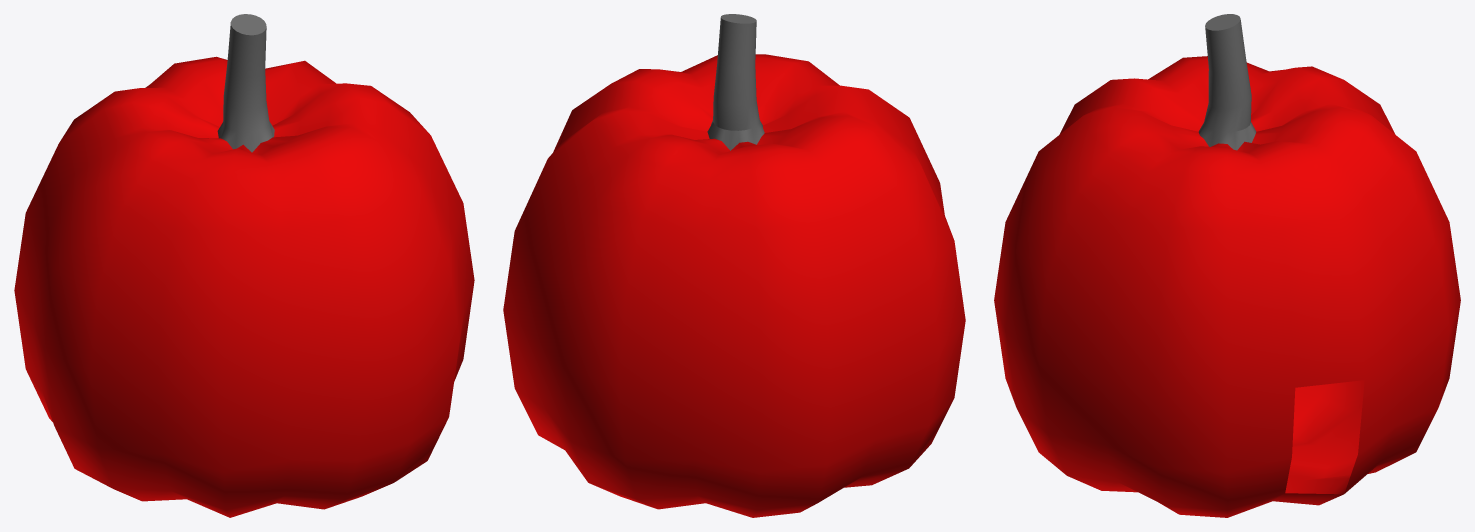
File: Capsicum.fbx
The picture shows the model from 3 angles, left to right: view 1: azimuth 30°, elevation 25°; view 2: azimuth 150°, elevation 25°; view 3: azimuth 270°, elevation 25°; orthographic projection.
Parts seen in each view (by area): view 1: polySurface4, polySurface1; view 2: polySurface4, polySurface1; view 3: polySurface4, polySurface1.
Boxes of the visible parts, bbox=[...] form: polySurface4: bbox=[14, 56, 474, 517]; polySurface1: bbox=[217, 14, 274, 152]; polySurface4: bbox=[503, 54, 965, 517]; polySurface1: bbox=[707, 14, 764, 150]; polySurface4: bbox=[994, 56, 1460, 517]; polySurface1: bbox=[1198, 14, 1256, 150].
Bounding box in the file's own units: 2.5 × 2.65 × 2.5.
